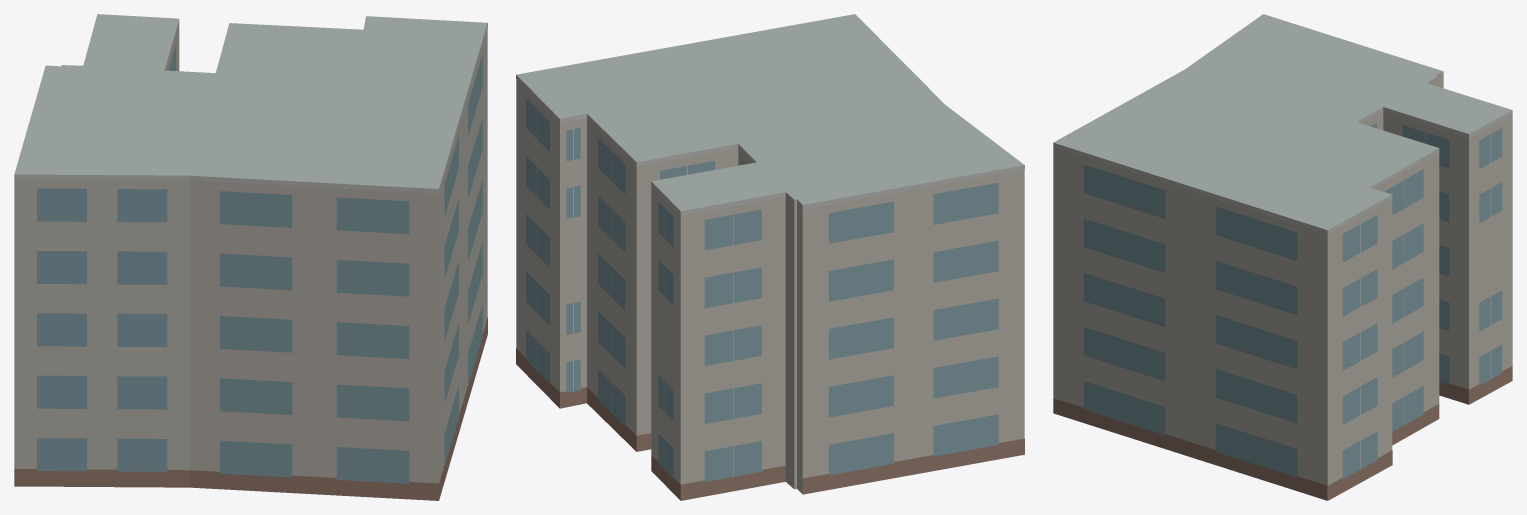
The model's file is survey-upis-32516450.glb.
3 renders of one model, left to right at view 1: azimuth 30°, elevation 25°; view 2: azimuth 150°, elevation 25°; view 3: azimuth 270°, elevation 25°, orthographic. The views are drawn at different scales.
Parts seen in each view (by area): view 1: survey-upis-32516450.tmp; view 2: survey-upis-32516450.tmp; view 3: survey-upis-32516450.tmp.
Part boxes in pixels (x1,y1,x2,y2): survey-upis-32516450.tmp: (14, 14, 487, 500); survey-upis-32516450.tmp: (516, 14, 1024, 500); survey-upis-32516450.tmp: (1053, 14, 1512, 500).
Size of the model in its own units: 27.25 by 15.9 by 24.47.
